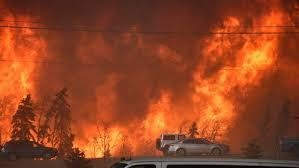fire: (60, 9, 280, 154), (0, 11, 47, 150)
